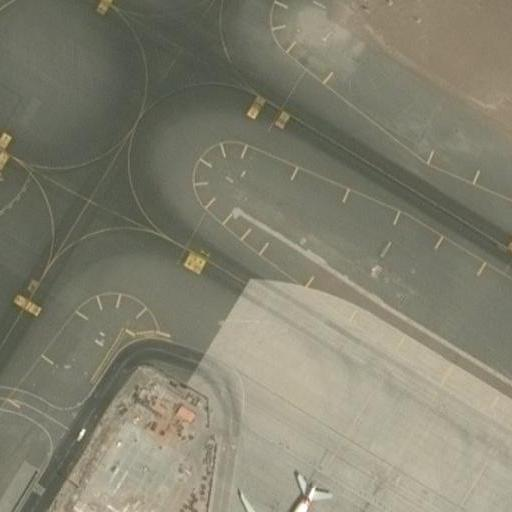Aircraft: (219, 465, 341, 511)
